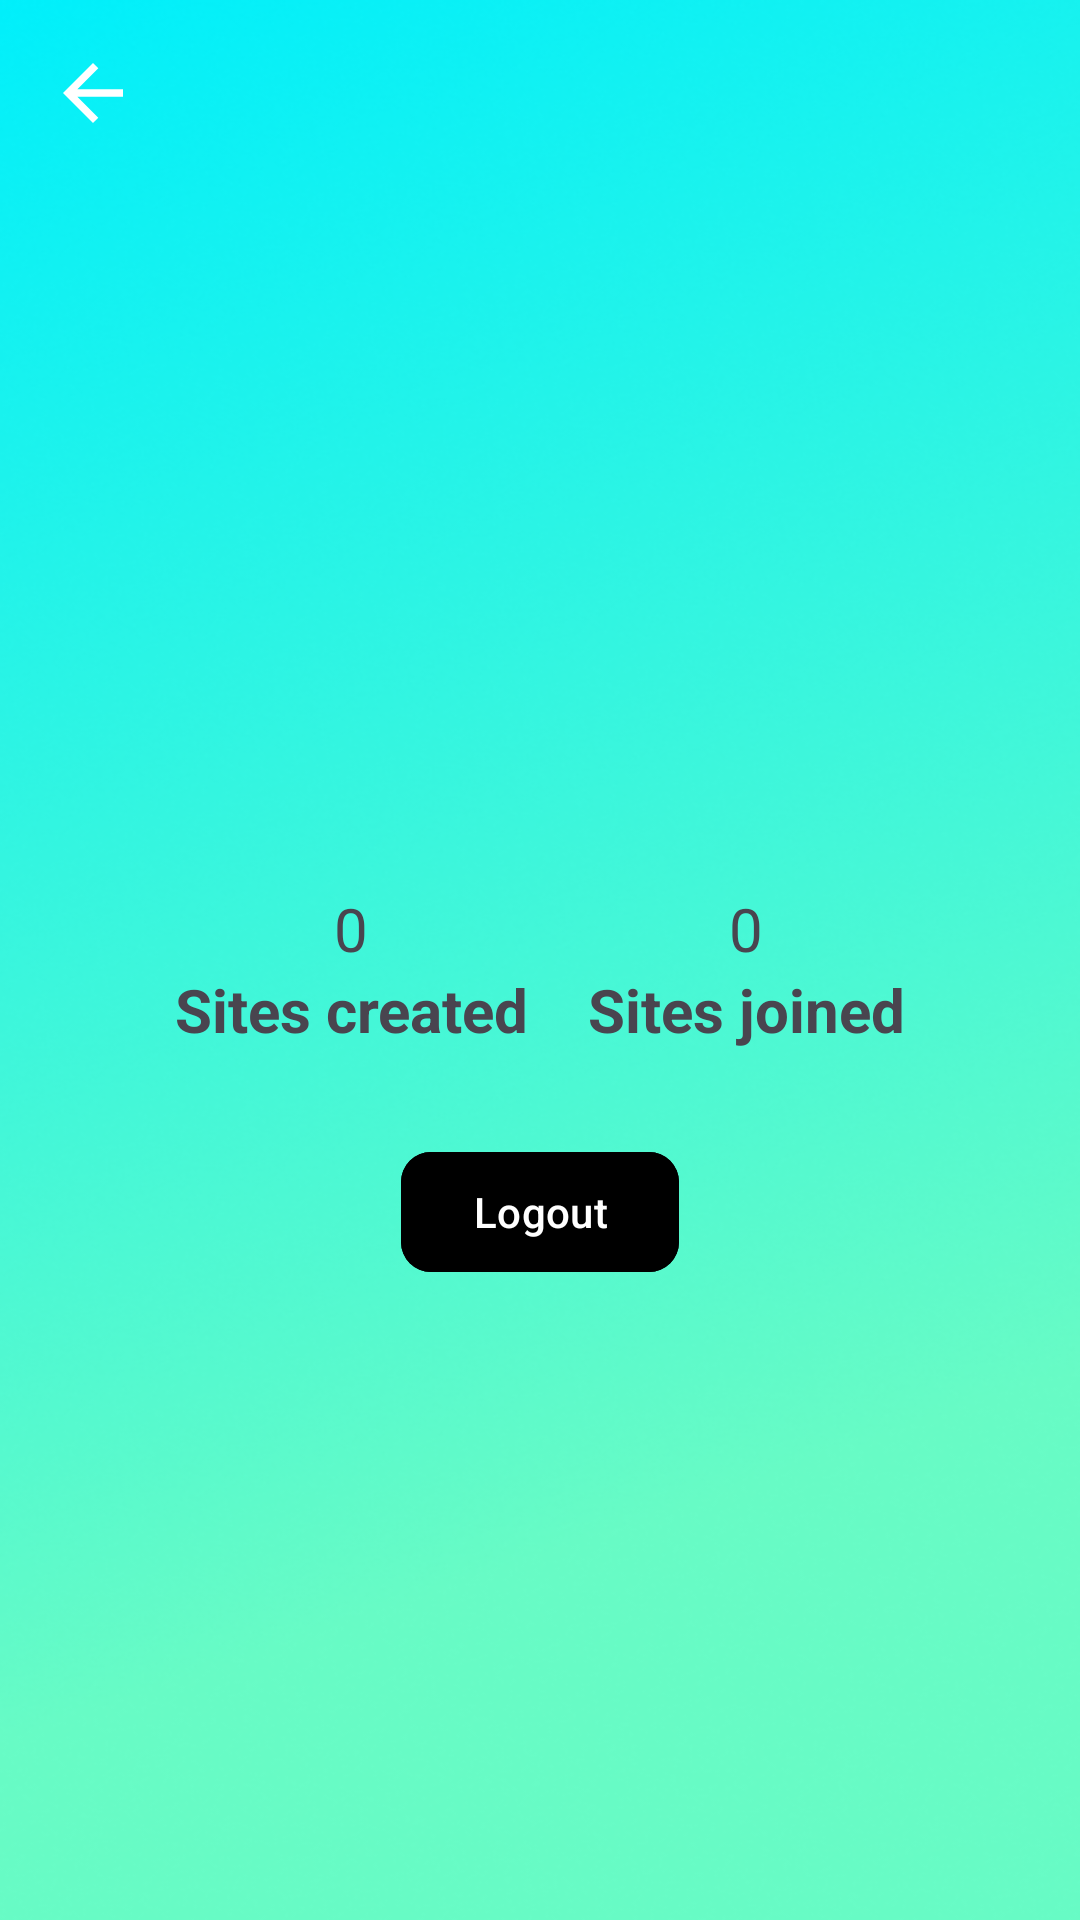

Icon click points for this 1080w x 1920h phone screenshot, format point (x, y):
back: point (93, 93)
